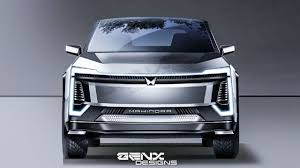XUV 400: (60, 15, 241, 160)
